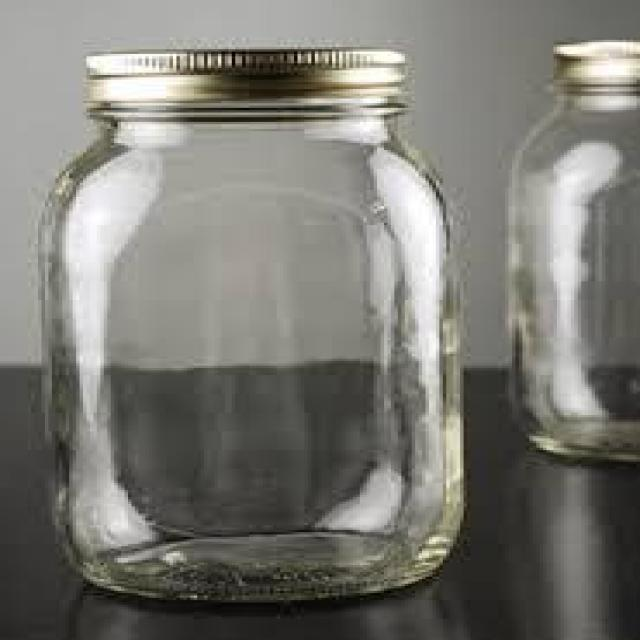non-organic waste: (38, 43, 471, 606)
